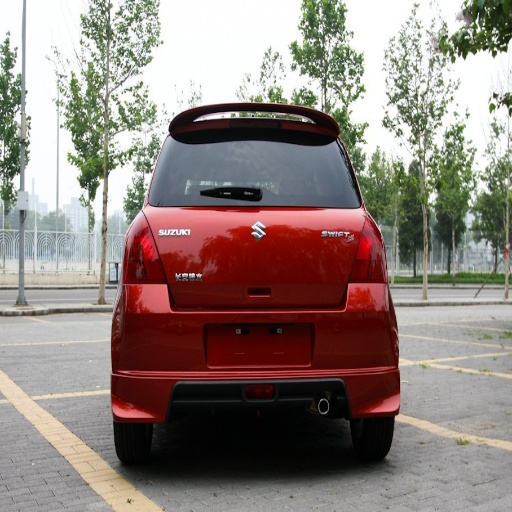back_bumper: (114, 284, 396, 423)
trunk: (144, 207, 362, 336)
